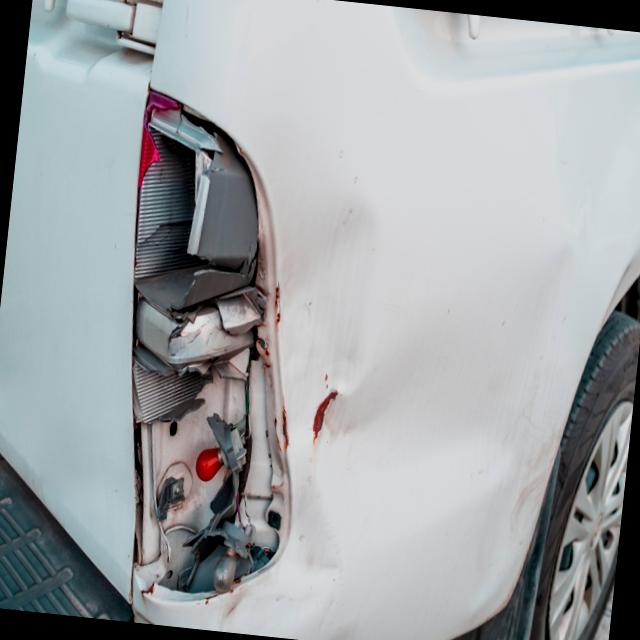Cabossage: (270, 174, 392, 479), (225, 465, 378, 640)
Phare abime: (71, 77, 331, 614)
Rayure: (300, 357, 345, 479)
